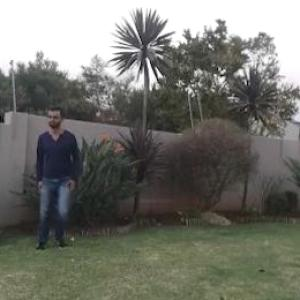follow: (32, 99, 77, 256)
